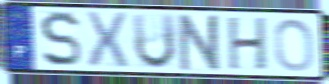H: (227, 15, 268, 73)
N: (178, 13, 224, 74)
O: (273, 17, 316, 73)
S: (38, 9, 83, 69)
U: (130, 12, 177, 71)
X: (84, 9, 131, 70)
